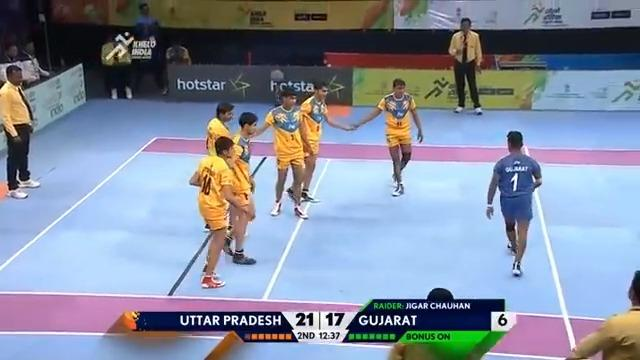Player: (188, 135, 250, 288), (350, 77, 423, 196), (285, 79, 355, 203), (248, 85, 310, 219), (564, 269, 639, 359), (0, 64, 41, 199), (223, 111, 259, 264), (205, 101, 234, 156)
Raider: (485, 130, 542, 276)
referee: (447, 16, 484, 115)
